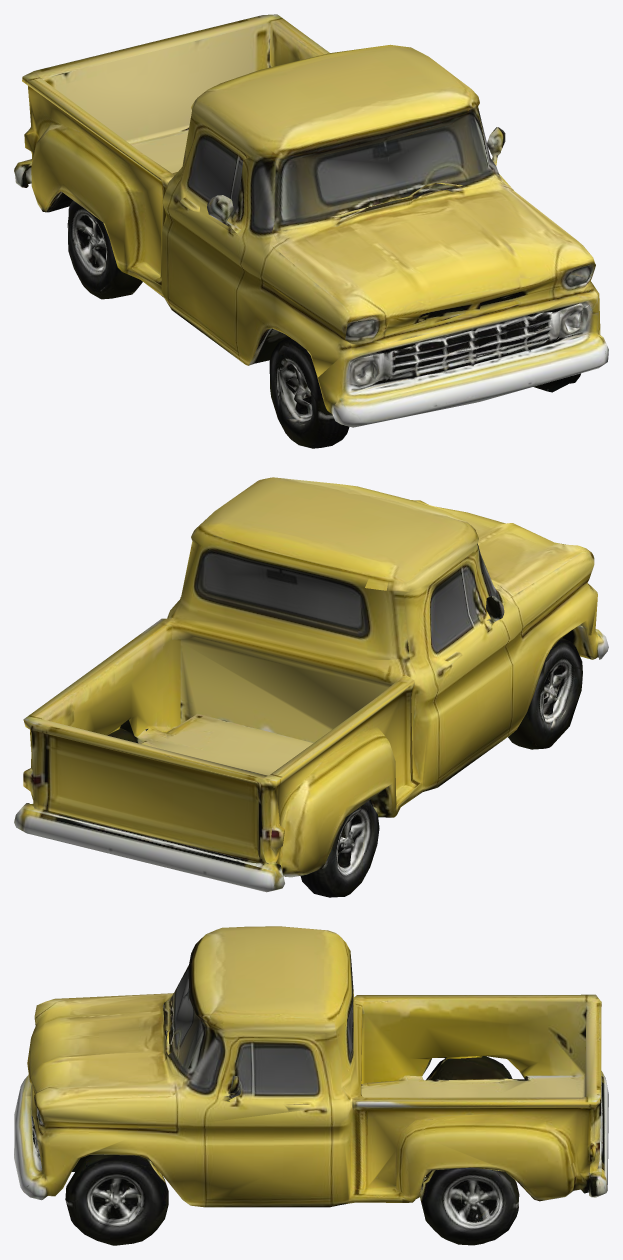
Rendered from pickup_56.glb.
3 views of the same model, one above another, from view 1: azimuth 30°, elevation 25°; view 2: azimuth 150°, elevation 25°; view 3: azimuth 270°, elevation 25° (orthographic). The views are drawn at different scales.
Parts seen in each view (by area): view 1: textured; view 2: textured; view 3: textured.
Part boxes in pixels (x1=…): textured: x1=14, y1=14, x2=608, y2=448; textured: x1=14, y1=477, x2=608, y2=897; textured: x1=14, y1=926, x2=608, y2=1245.
Size of the model in its own units: 0.9968 by 0.8543 by 1.99.
Materials: 1 (1 with a texture image).
